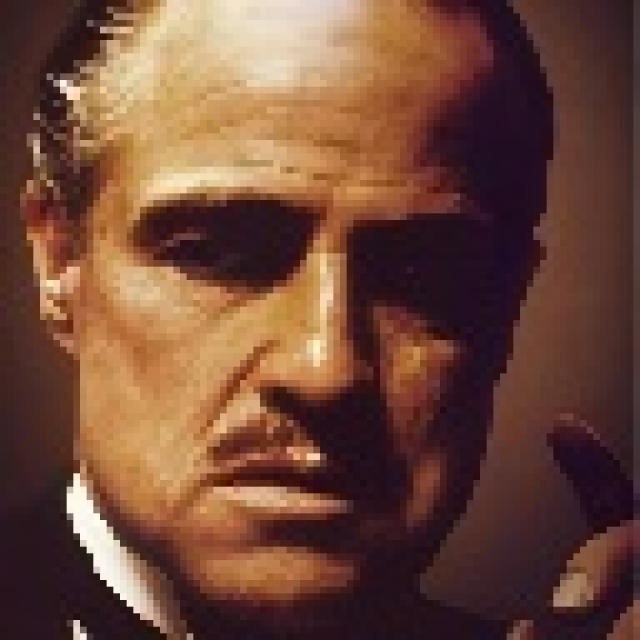sad: (62, 1, 550, 640)
